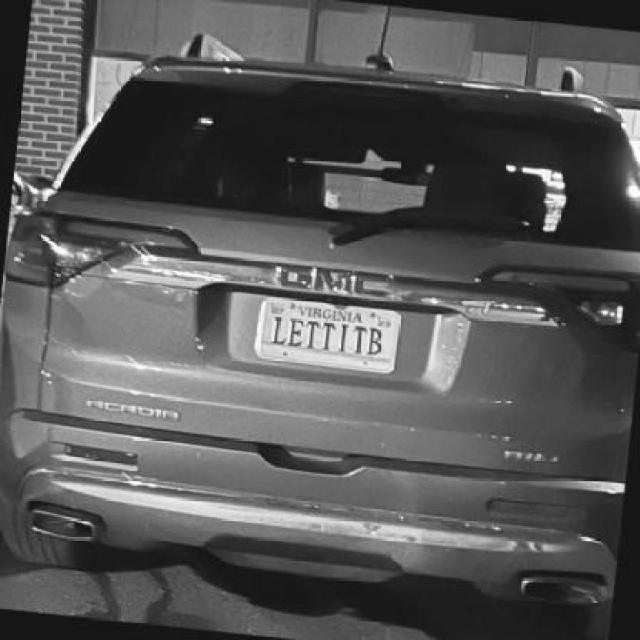licenseplate: (252, 296, 401, 373)
